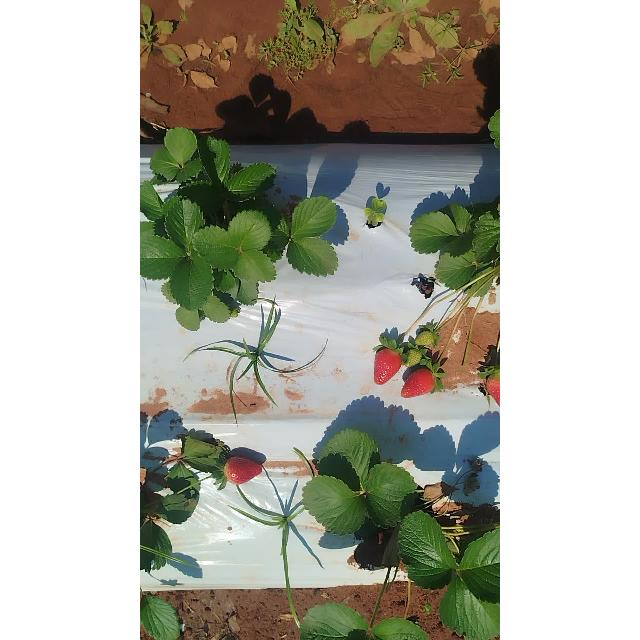maduro: (373, 347, 402, 385), (226, 456, 262, 486), (400, 368, 436, 398)
no-maduro: (415, 329, 437, 348), (403, 349, 421, 367)
semi-maduro: (486, 374, 499, 408)
